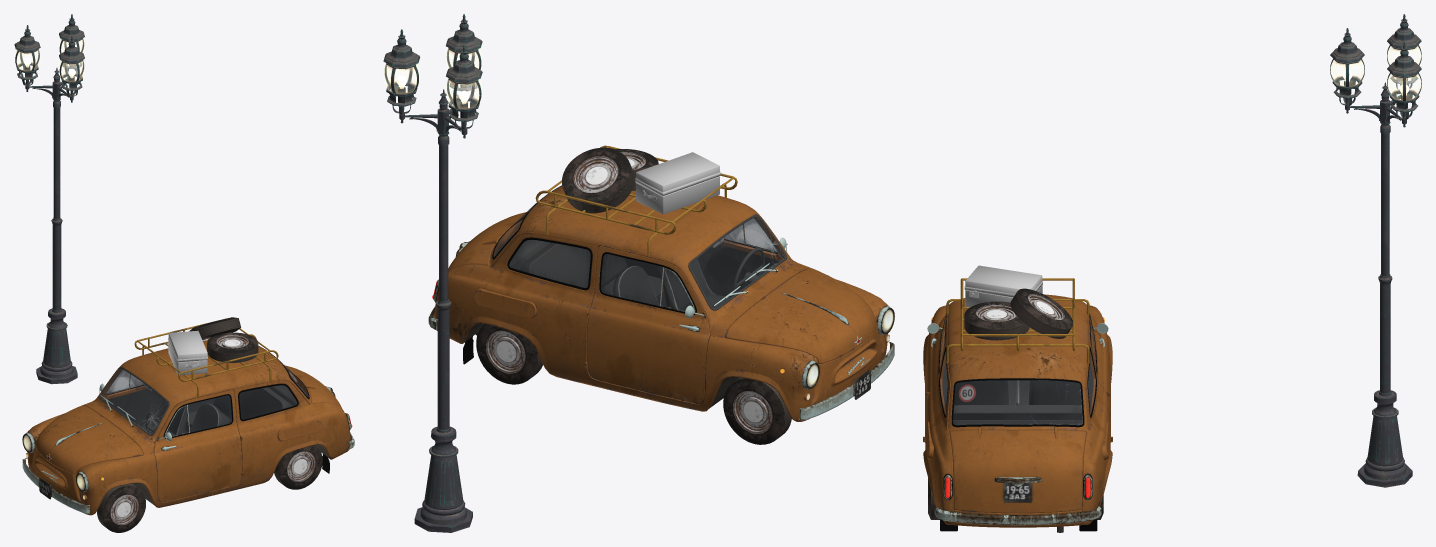
The picture shows the model from 3 angles, left to right: view 1: azimuth 30°, elevation 25°; view 2: azimuth 150°, elevation 25°; view 3: azimuth 270°, elevation 25°; orthographic projection. The views are drawn at different scales.
Visible parts, largest first — view 1: car_body, door_left, hood, interior_01, vintage_lantern_7_base, vintage_lantern_7_lantern_wall_base_1_0, wheel_00, wheel_01, door_right, wheel_004, railings, glass_00 (+7 smaller); view 2: car_body, door_right, hood, interior_01, vintage_lantern_7_base, vintage_lantern_7_lantern_wall_base_1_0, wheel_005, wheel_03, wheel_02, door_left, glass_01, chest_top_chest_0 (+8 smaller); view 3: car_body, back_door, interior_01, vintage_lantern_7_base, vintage_lantern_7_lantern_wall_base_1_0, wheel_005, wheel_004, rear_bumper, railings, chest_top_chest_0, vintage_lantern_glass_7_lantern_wall_glass_1_0, door_right (+1 smaller).
Boxes of the visible parts, box(x1,y1,x2,y2) form: car_body: box(22, 340, 351, 515); door_left: box(154, 389, 243, 502); hood: box(35, 405, 143, 473); interior_01: box(100, 368, 308, 459); vintage_lantern_7_base: box(25, 68, 77, 384); vintage_lantern_7_lantern_wall_base_1_0: box(14, 14, 84, 219); wheel_00: box(97, 483, 145, 532); wheel_01: box(274, 445, 322, 489); door_right: box(99, 374, 162, 425); wheel_004: box(207, 332, 258, 362); railings: box(134, 318, 278, 397); glass_00: box(187, 395, 231, 432); car_body: box(433, 185, 894, 421); door_right: box(585, 246, 710, 403); hood: box(725, 268, 876, 363); interior_01: box(494, 216, 785, 332); vintage_lantern_7_base: box(399, 89, 472, 532); vintage_lantern_7_lantern_wall_base_1_0: box(383, 14, 482, 301); wheel_005: box(562, 147, 634, 213); wheel_03: box(723, 377, 791, 444); wheel_02: box(476, 323, 542, 384); door_left: box(697, 224, 787, 296); glass_01: box(601, 254, 663, 306); chest_top_chest_0: box(635, 152, 720, 195); car_body: box(923, 294, 1112, 531); back_door: box(949, 426, 1086, 513); interior_01: box(940, 332, 1095, 425); vintage_lantern_7_base: box(1345, 82, 1412, 487); vintage_lantern_7_lantern_wall_base_1_0: box(1330, 14, 1421, 276); wheel_005: box(1010, 288, 1072, 338); wheel_004: box(964, 301, 1029, 340); rear_bumper: box(934, 506, 1101, 525); railings: box(946, 278, 1089, 363); chest_top_chest_0: box(964, 265, 1042, 297); vintage_lantern_glass_7_lantern_wall_glass_1_0: box(1330, 46, 1421, 100); door_right: box(1089, 314, 1112, 440).
Size of what is drawn, in the model's own units: 329 by 383 by 386.
